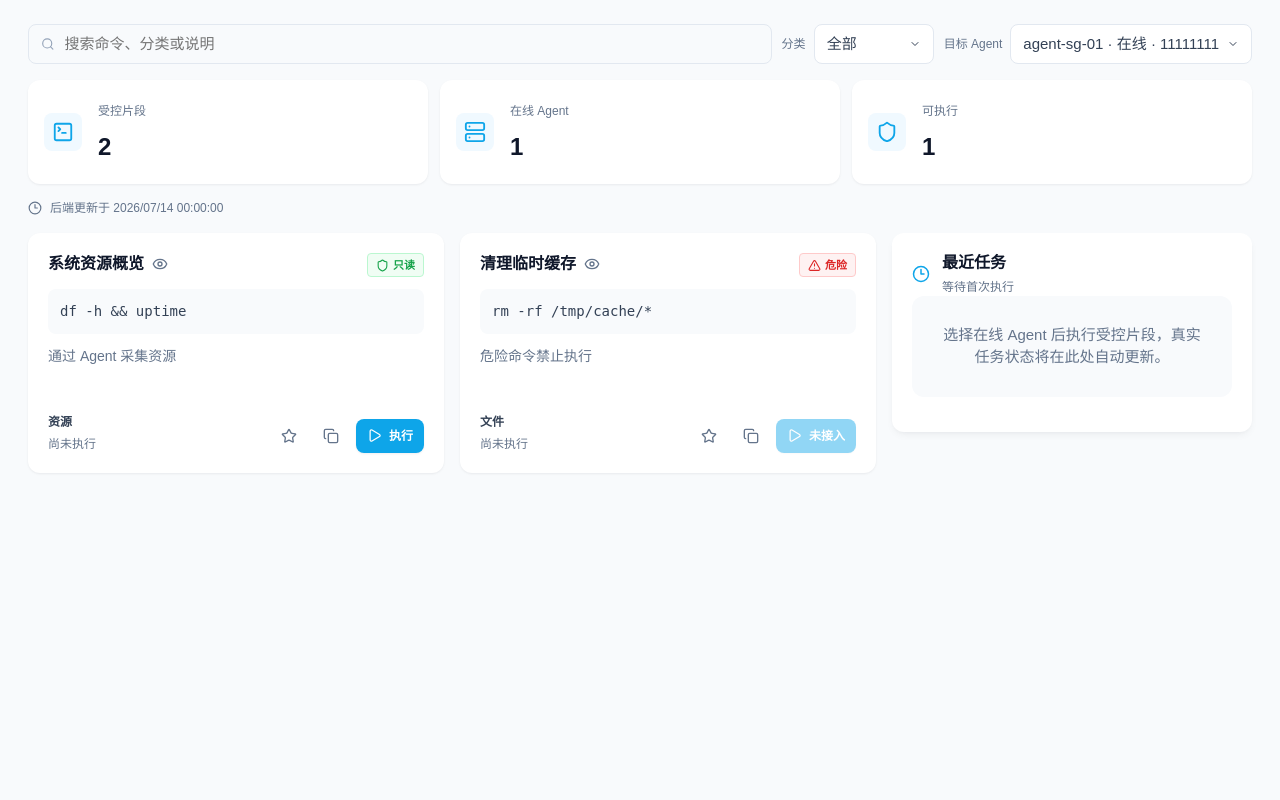
Scenario: terminal snippets real backend page › submits only snippet identity after fast current-password input
Click the button with aria-label "执行 系统资源概览" at (390, 436), box [356,419,424,453]
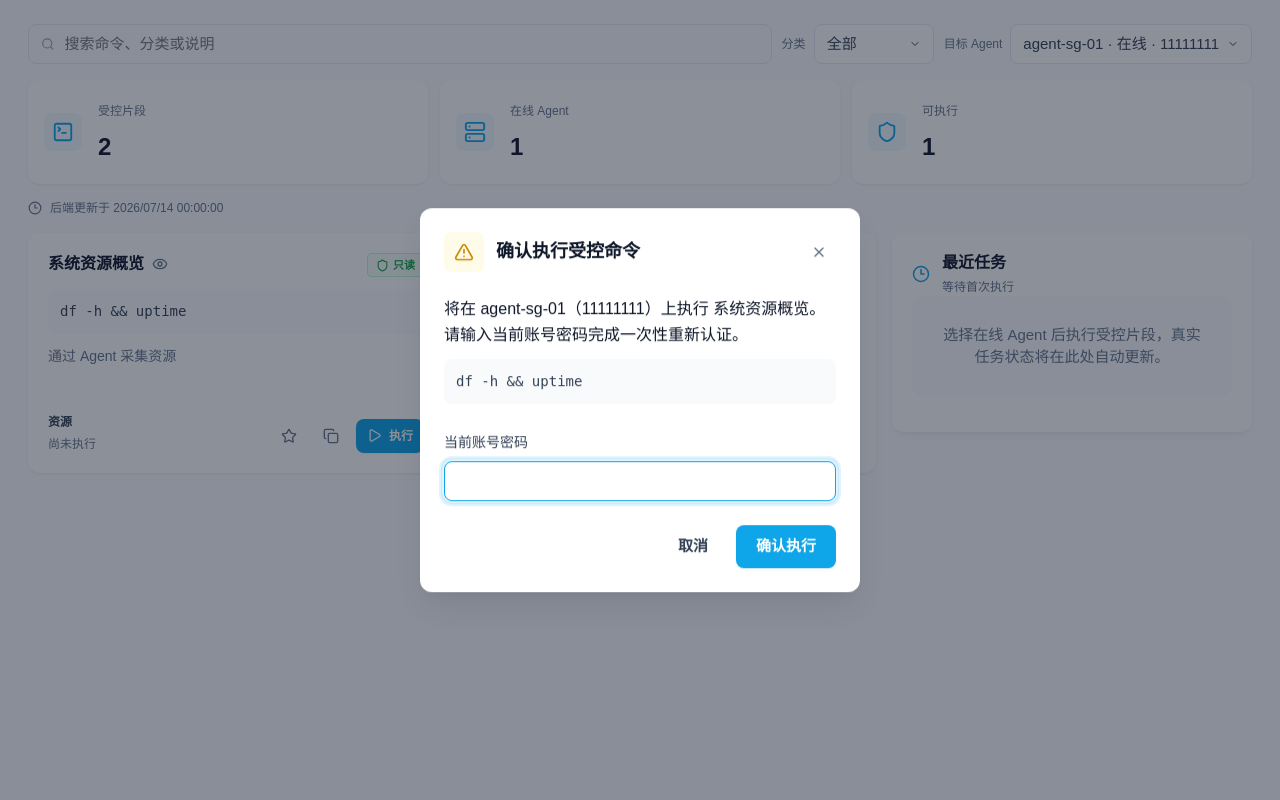
Type "correct password" into the password field labelled "当前账号密码" at (640, 481), box [444,461,836,501]
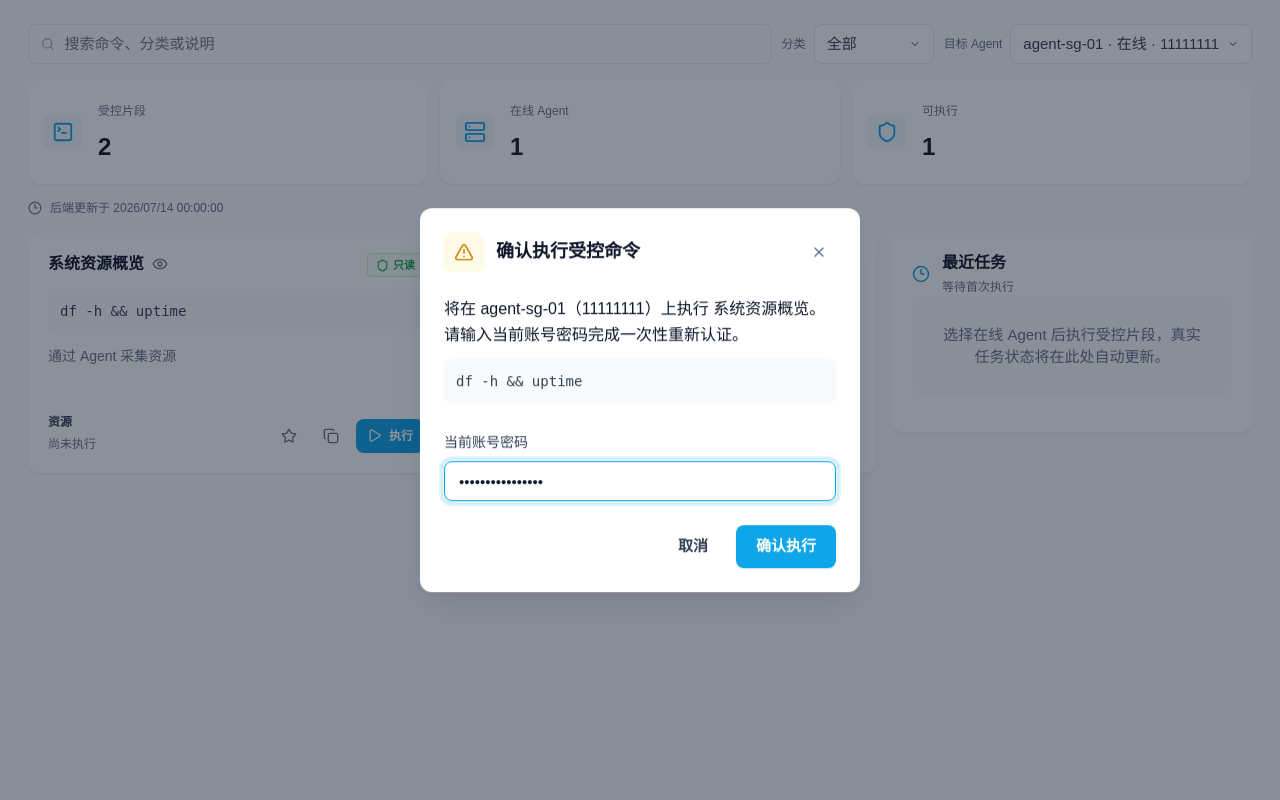
Click the button "确认执行" at (786, 547), box [736,525,836,568]
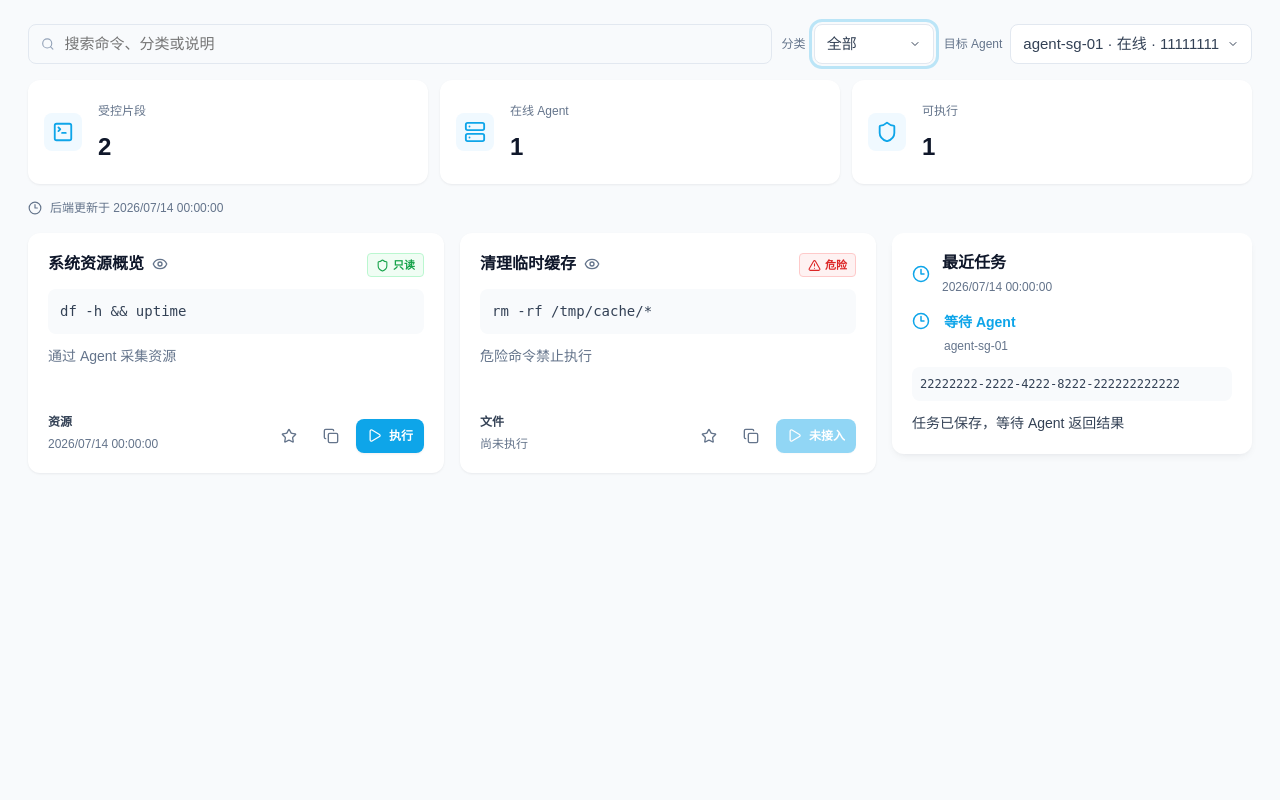
Now the text "等待 Agent" is shown, box [944,314,1016,330]
